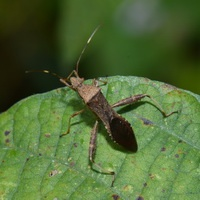insect: (60, 65, 182, 199), (20, 89, 88, 182)
